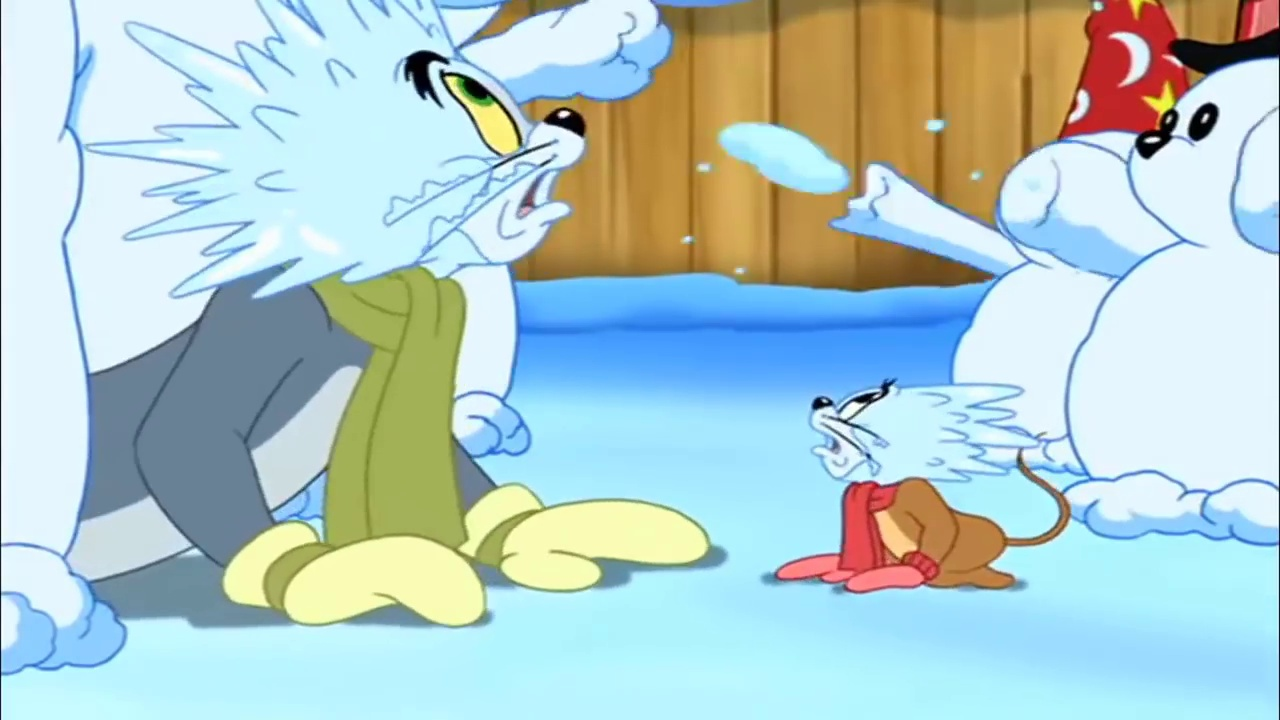face: (398, 51, 588, 263), (806, 380, 913, 486)
